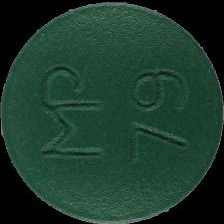53489-332: (0, 0, 224, 224)
